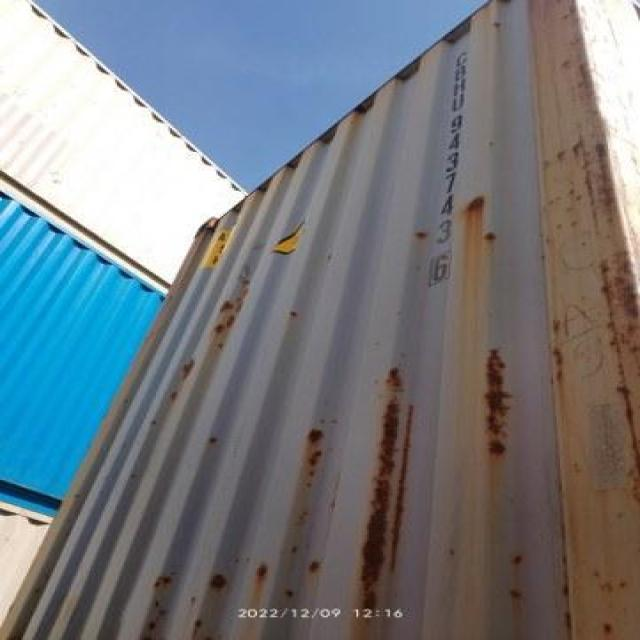rust: (361, 380, 421, 542), (487, 353, 507, 443), (212, 576, 238, 602)
